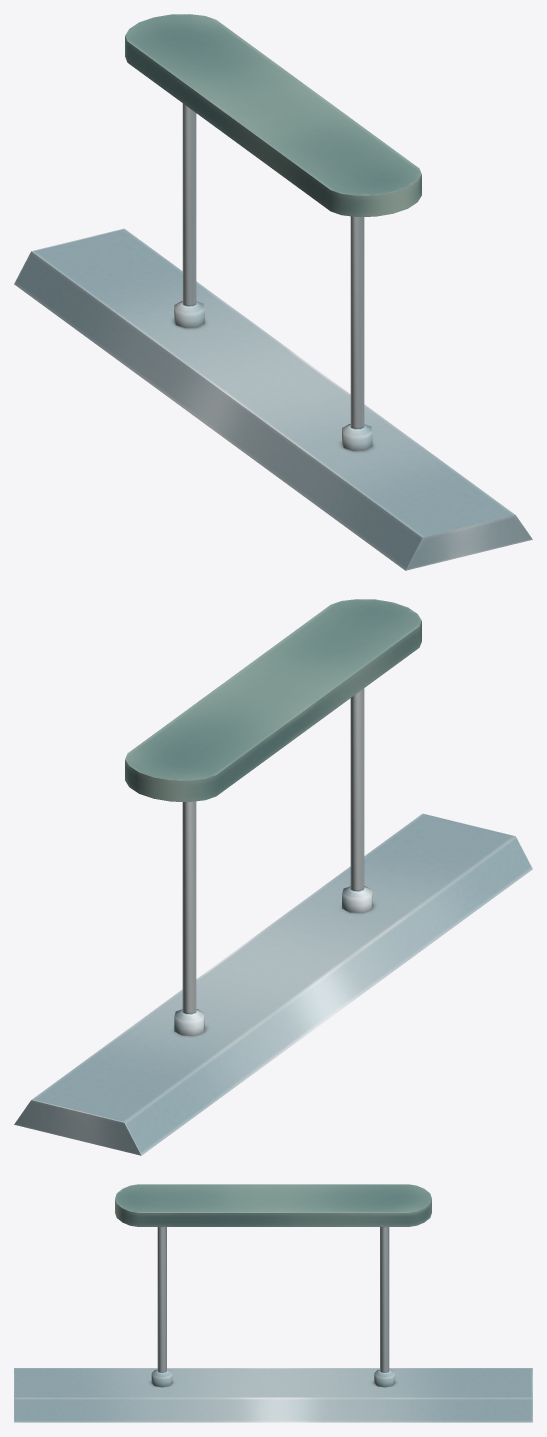
Rendered from Light_01_01.fbx.
3 renders of one model, top to bottom at view 1: azimuth 30°, elevation 25°; view 2: azimuth 150°, elevation 25°; view 3: azimuth 270°, elevation 25°, orthographic. The views are drawn at different scales.
Visible parts, largest first — view 1: light02; view 2: light02; view 3: light02.
Part boxes in pixels (<box>): light02: <box>14,14,532,570</box>; light02: <box>14,599,532,1155</box>; light02: <box>14,1184,532,1422</box>.
Bounding box in the file's own units: 23.98 × 55.18 × 128.
